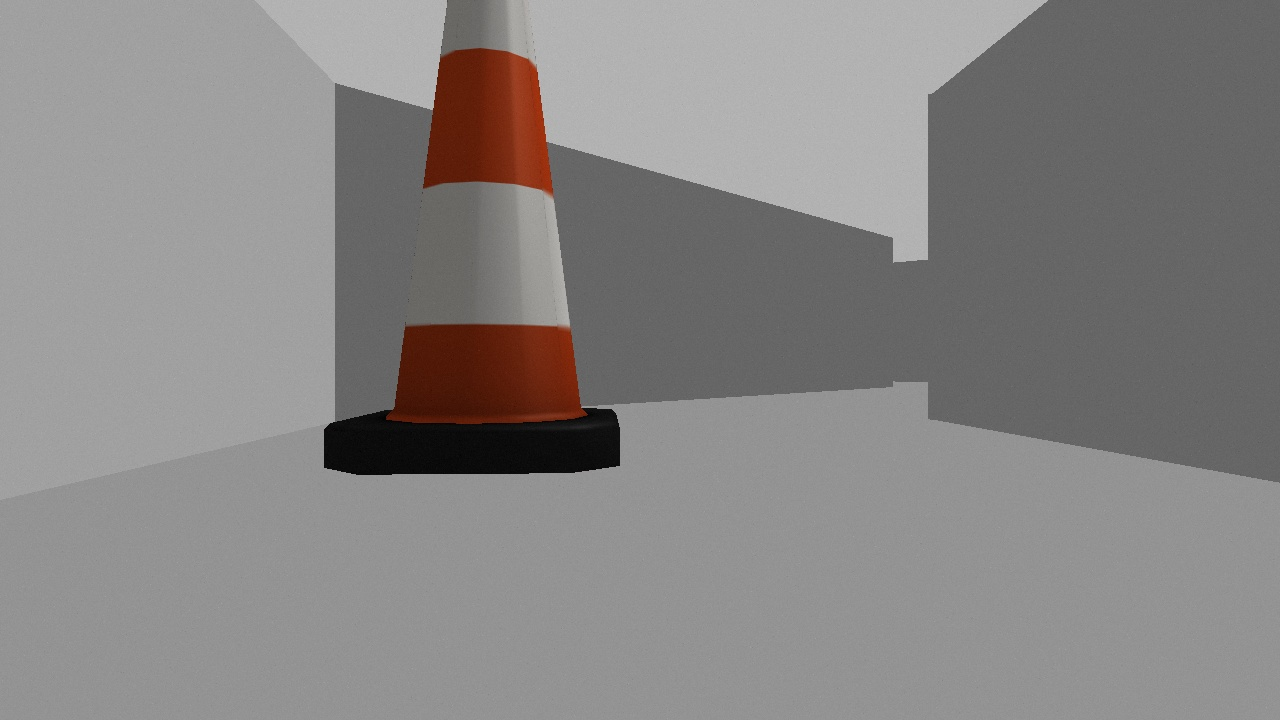barricade: (322, 1, 620, 475)
